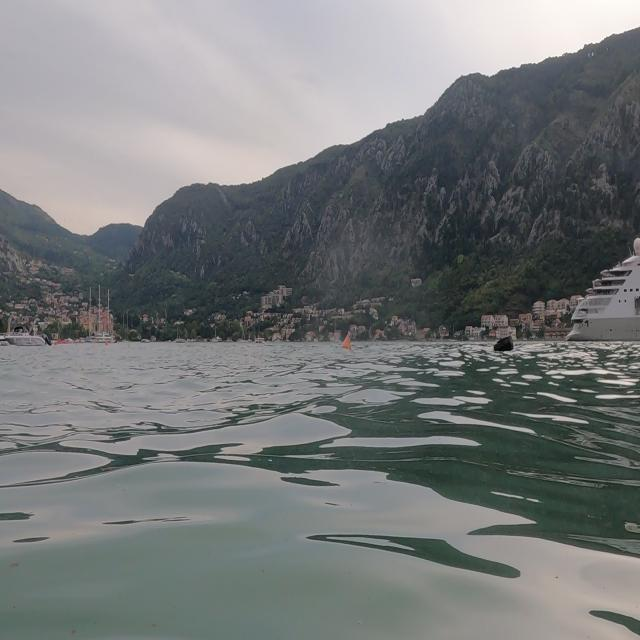boat: (564, 235, 638, 345)
buoy: (332, 316, 360, 354), (492, 331, 520, 362)
